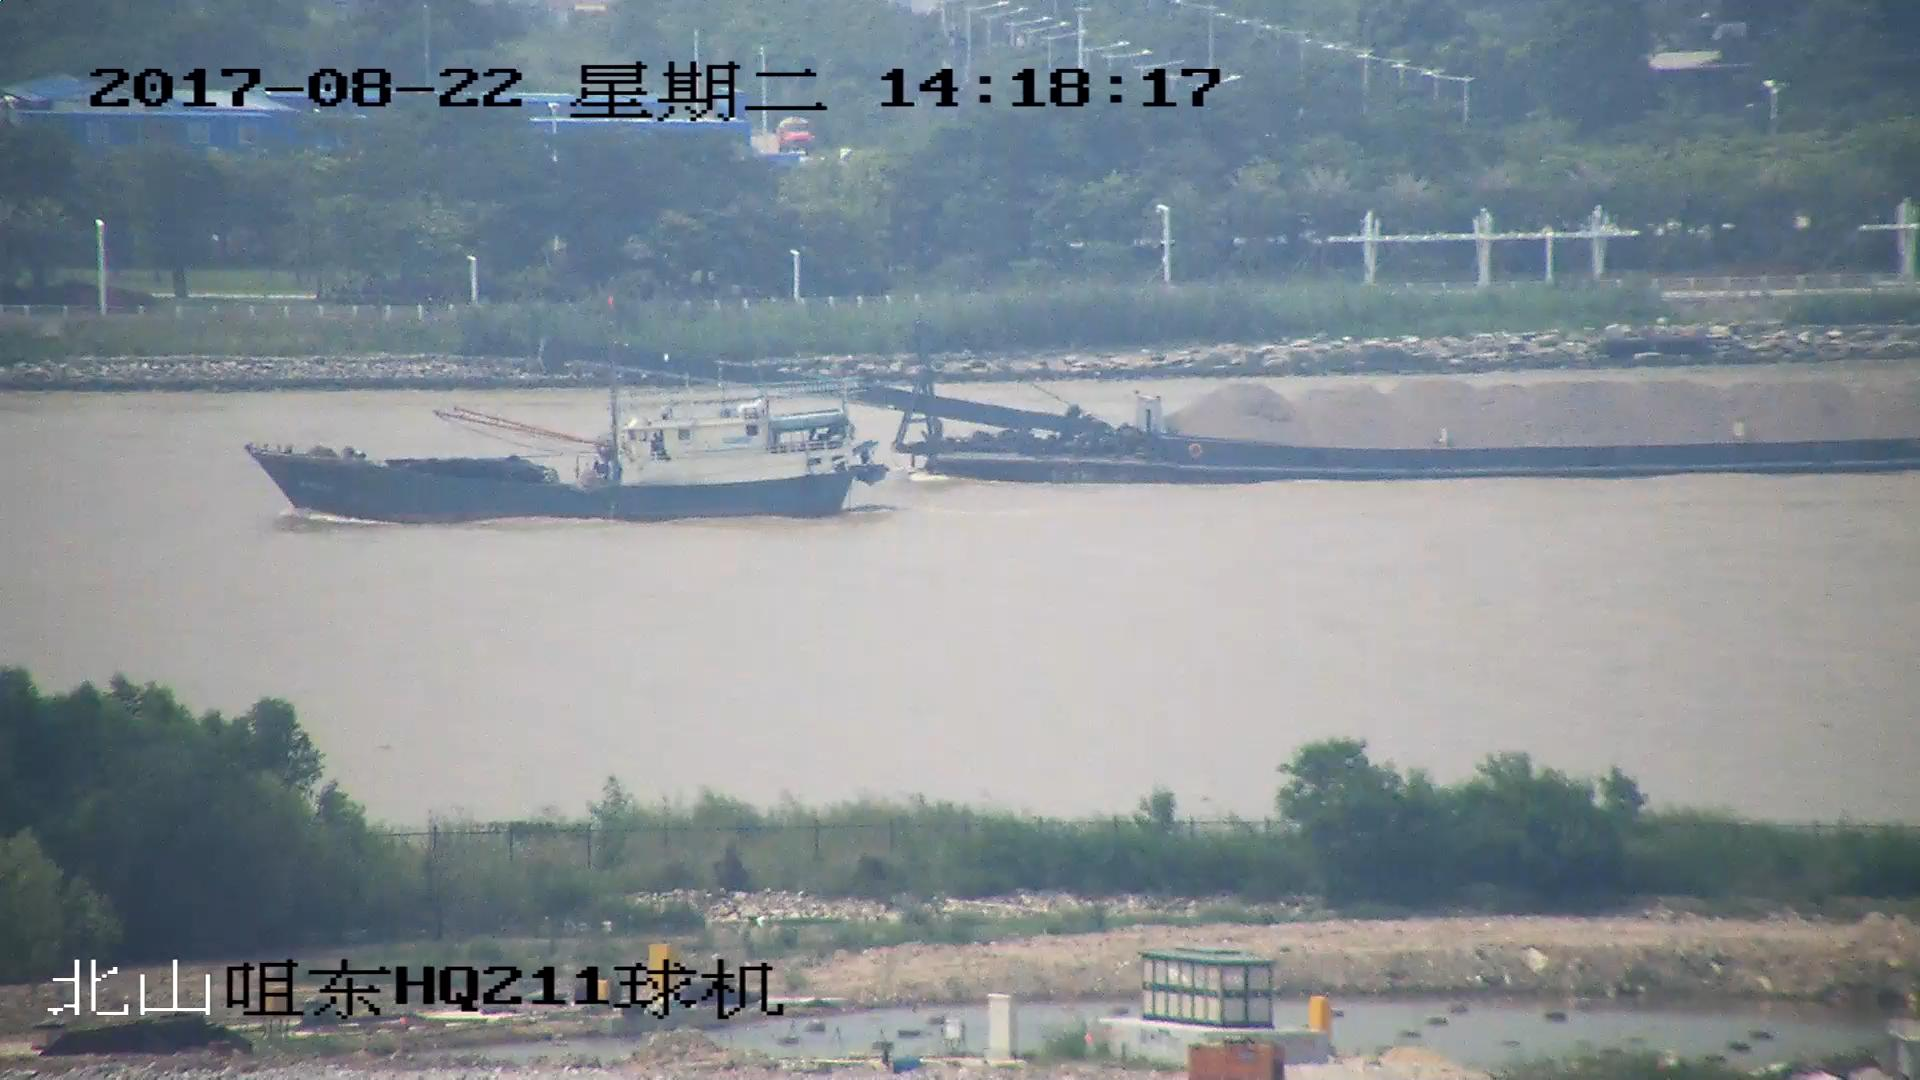fishing boat: (242, 299, 889, 522)
ore carrier: (544, 339, 1920, 483)
